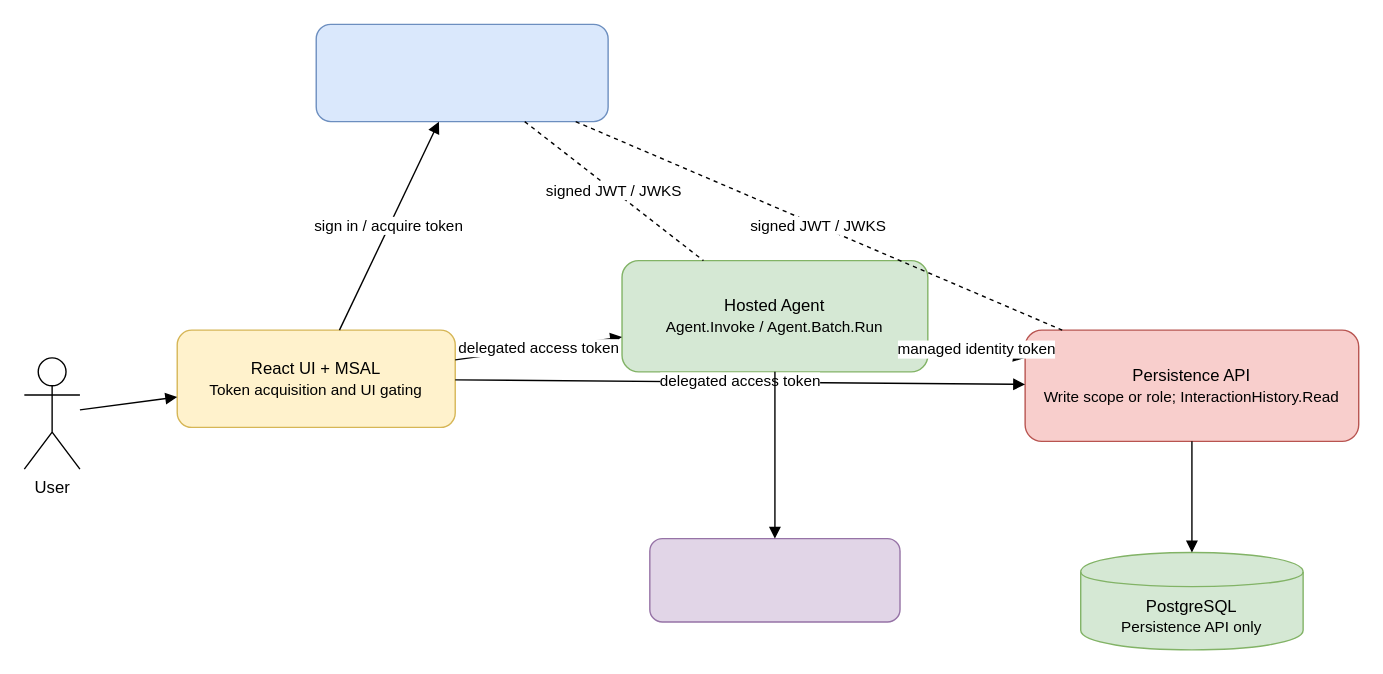
Some shapes in this 1383 by 674 pixel diagram are drawn without their labels. The shapes that lost their labels are listed below. From the top down, each one's centre as x and y in pixels, then its label:
At (461,72): "Microsoft Entra ID Identity provider and token issuer".
At (774,579): "Foundry model".
